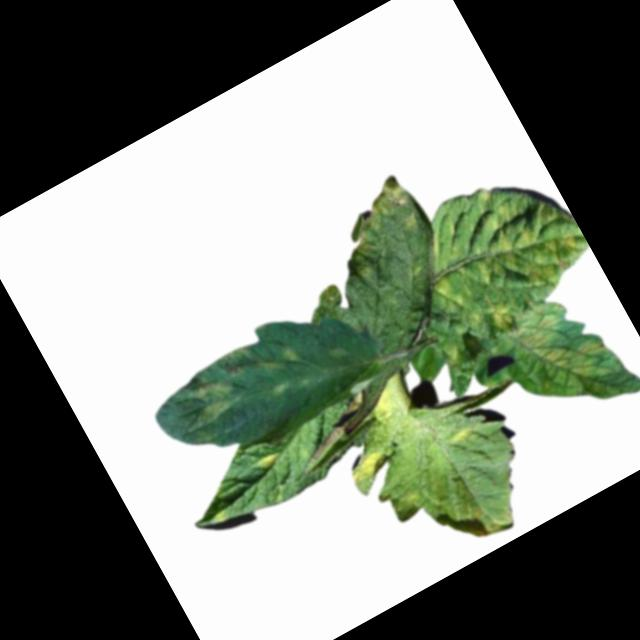Leaf_Mold: (399, 151, 594, 333), (498, 278, 640, 436), (316, 170, 433, 278), (162, 341, 272, 434), (463, 492, 521, 544), (345, 443, 400, 492), (258, 338, 305, 379), (484, 297, 521, 336), (254, 447, 288, 476), (446, 425, 475, 450)
